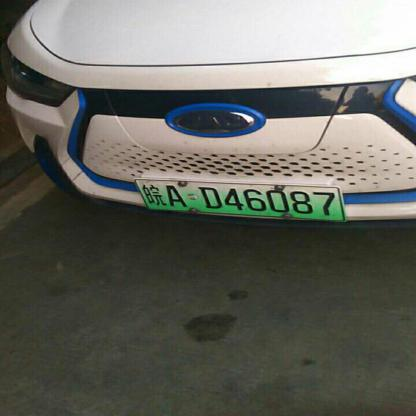lp: (134, 179, 346, 222)
